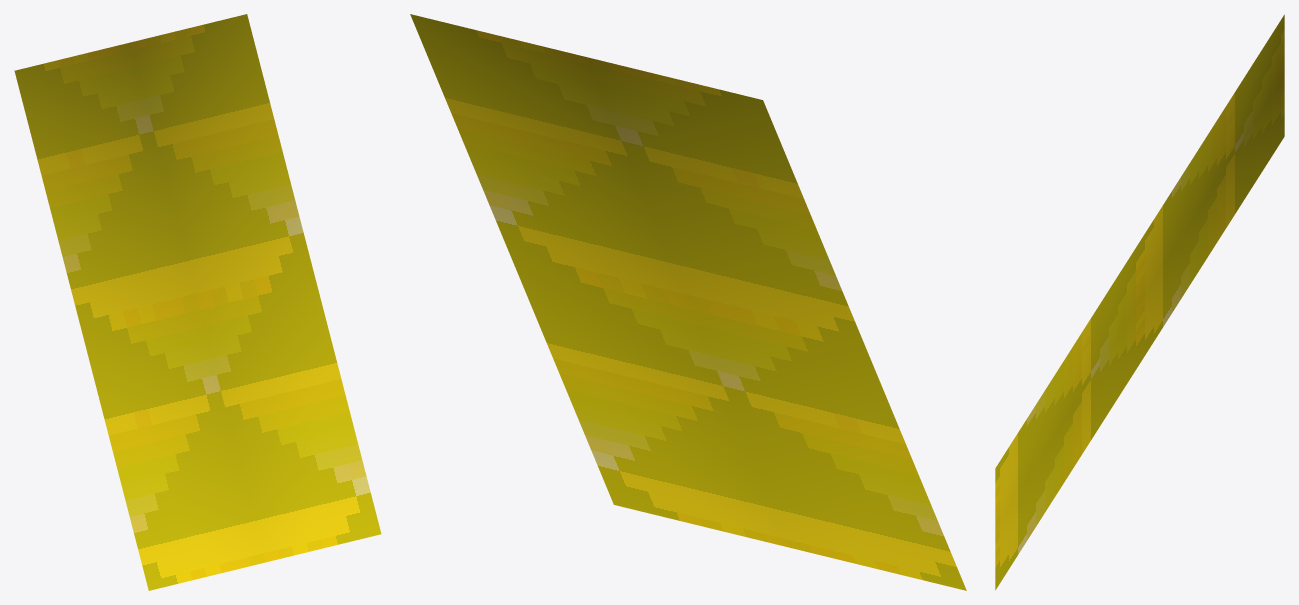
The picture shows the model from 3 angles, left to right: view 1: azimuth 30°, elevation 25°; view 2: azimuth 150°, elevation 25°; view 3: azimuth 270°, elevation 25°; orthographic projection. The views are drawn at different scales.
Bounding box in the file's own units: 1 × 1.73 × 1.
Materials: 1 (1 with a texture image).
